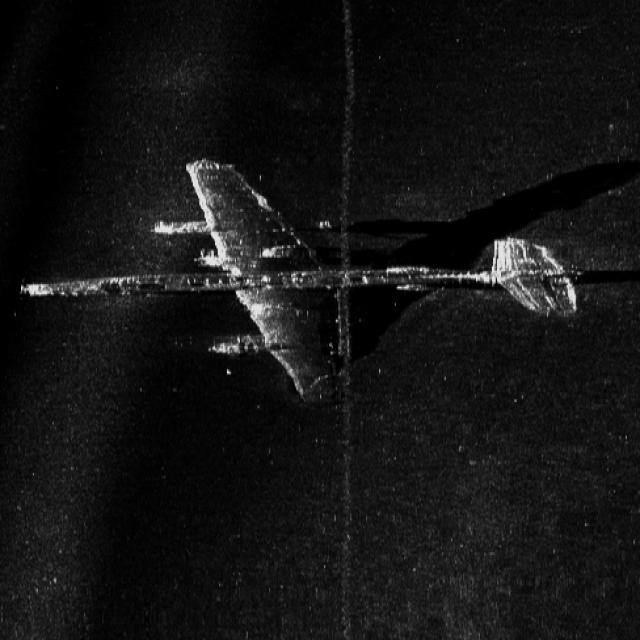plane: (33, 137, 591, 402)
